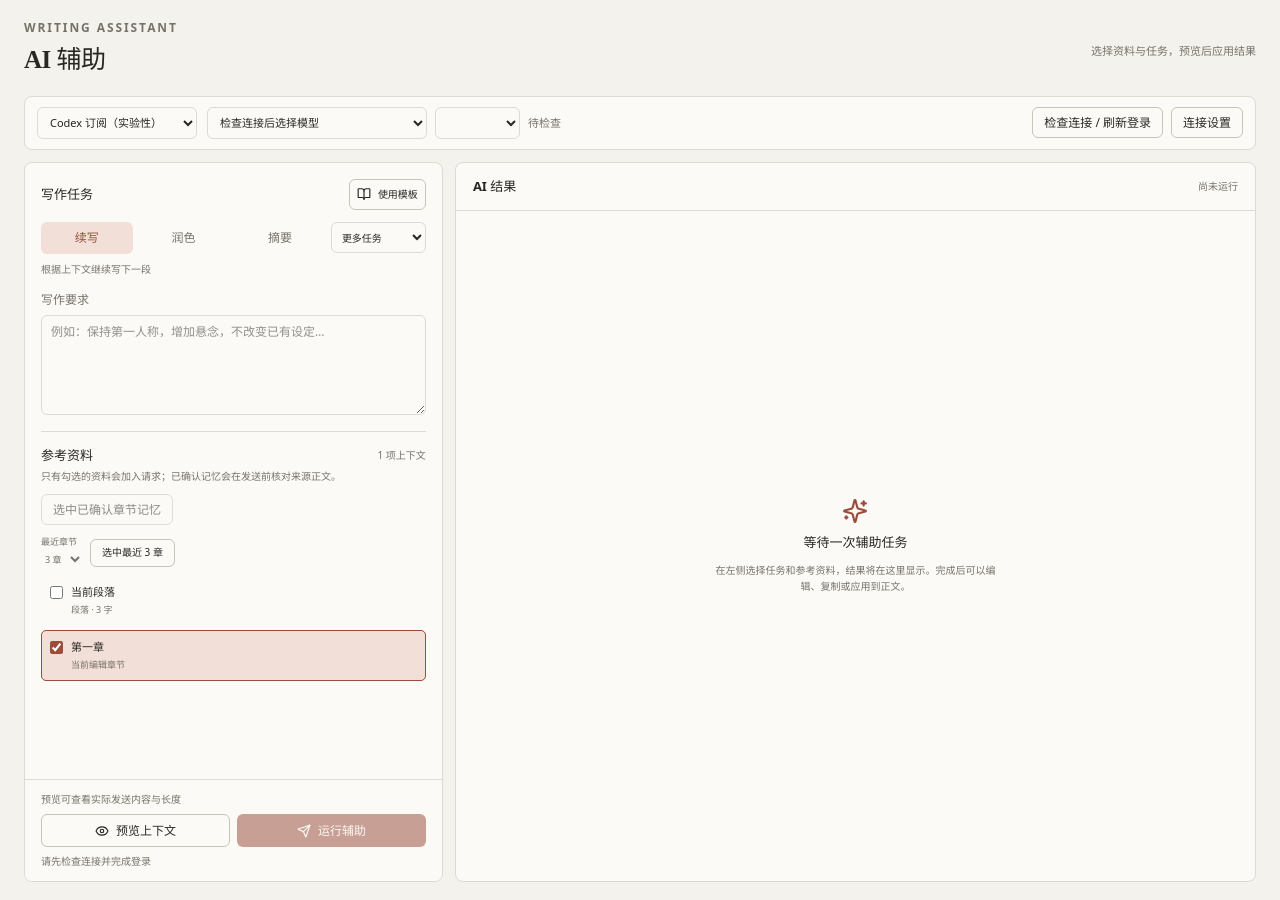
it: Codex writing integration › keeps the entry closed when runtime compatibility checks fail
The width and height of the screenshot is (1280, 900).
Step 1. Click the button "检查连接 / 刷新登录" → [1098, 123], box [1032, 107, 1163, 138]
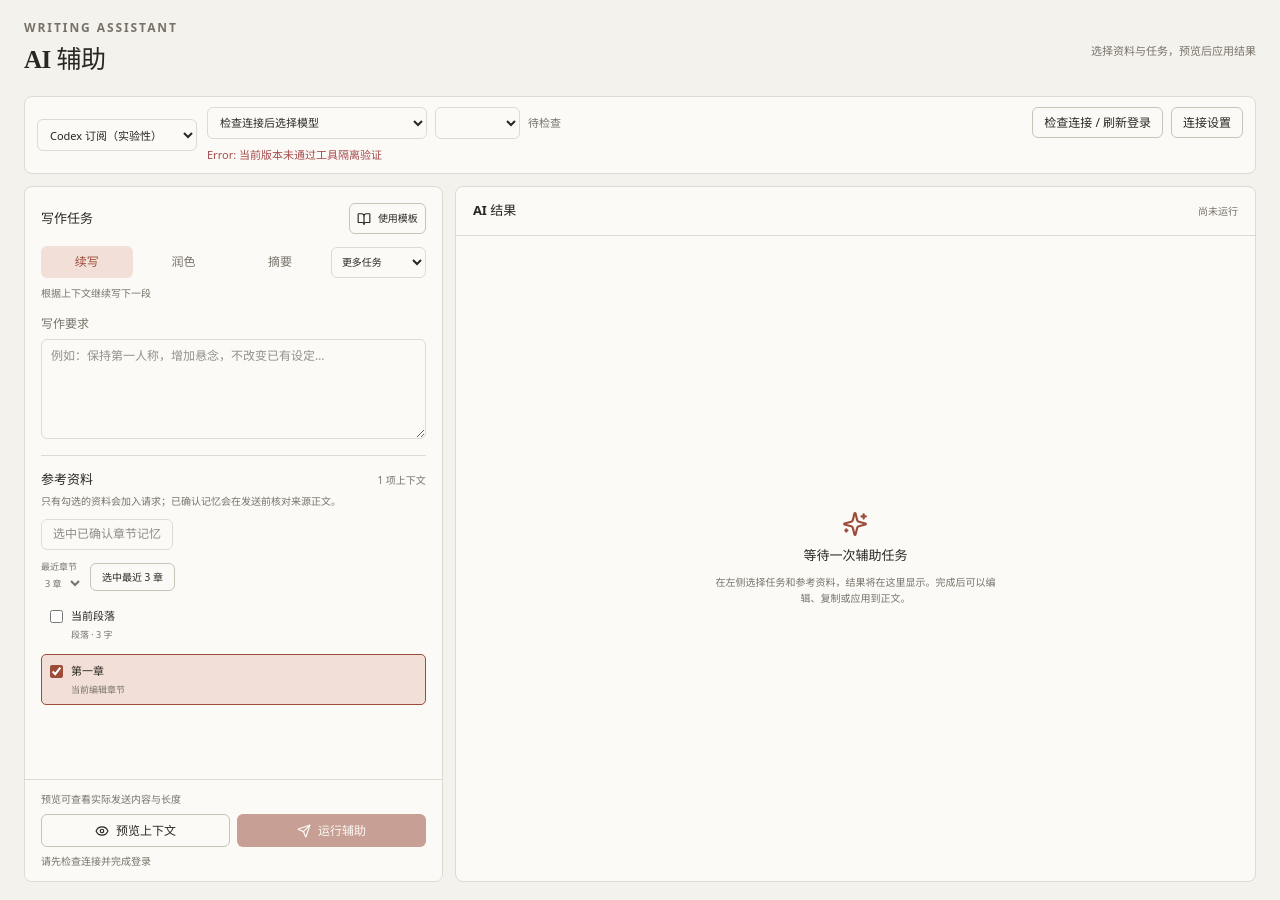
Expected: the button "运行辅助" is disabled, [237, 814, 426, 847]
Expected: the message "Error: 当前版本未通过工具隔离验证" is shown, [207, 147, 382, 162]
